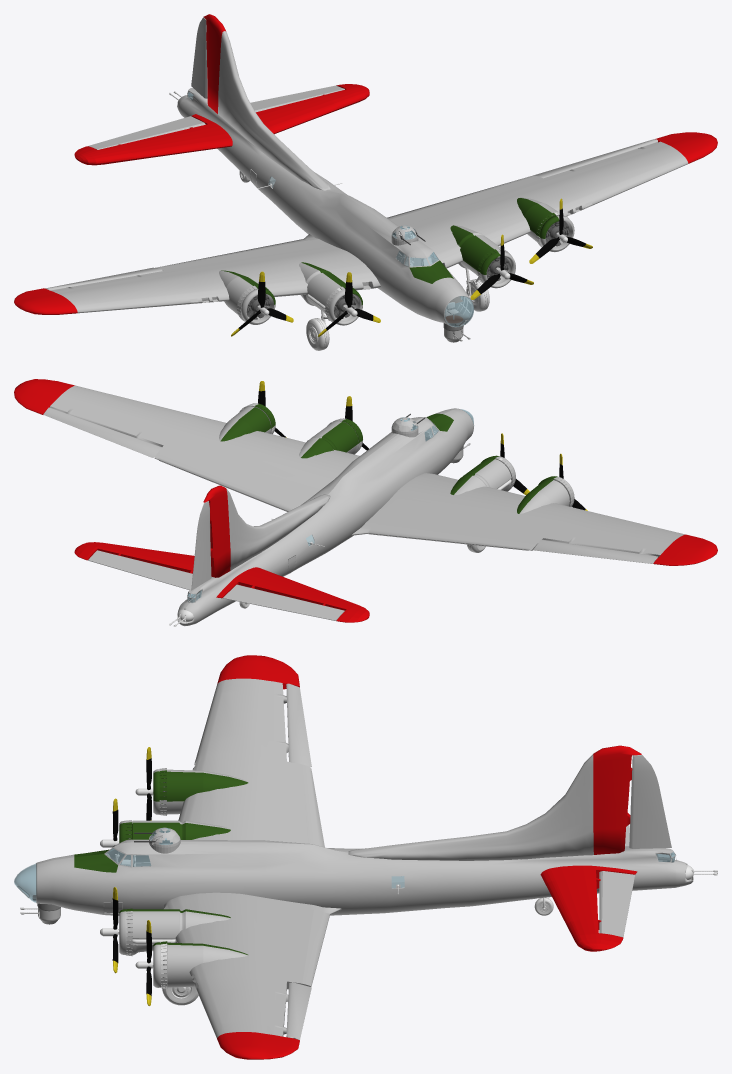
3 views of the same model, one above another, from view 1: azimuth 30°, elevation 25°; view 2: azimuth 150°, elevation 25°; view 3: azimuth 270°, elevation 25° (orthographic). The views are drawn at different scales.
Parts seen in each view (by area): view 1: Cylinder, Cylinder.033, Cylinder.036, Cube.014, Cube.004, Cube.001, Cylinder.051, Cylinder.042, Cylinder.052, Cylinder.299, Cube.003, Cube.422 (+4 smaller); view 2: Cylinder.033, Cylinder.036, Cylinder, Cube.014, Cube.004, Cube.003, Cube.001, Cube.002, Cylinder.051, Cube.005, Cylinder.042, Cube.025 (+3 smaller); view 3: Cylinder, Cylinder.036, Cylinder.033, Cube.014, Cube.001, Cube.422, Cylinder.051, Cylinder.052, Cylinder.299, Cube.002, Cylinder.042, Cube.025 (+1 smaller).
Boxes of the visible parts, box(x1,y1,x2,y2) form: Cylinder: box(177, 88, 473, 327); Cylinder.033: box(387, 132, 717, 268); Cylinder.036: box(14, 234, 380, 314); Cube.014: box(203, 14, 330, 190); Cube.004: box(74, 114, 232, 165); Cube.001: box(256, 84, 369, 134); Cylinder.051: box(450, 225, 515, 288); Cylinder.042: box(299, 262, 362, 325); Cylinder.052: box(517, 197, 574, 252); Cylinder.299: box(219, 270, 275, 324); Cube.003: box(88, 116, 205, 149); Cube.422: box(191, 17, 207, 98); Cylinder.033: box(14, 379, 359, 511); Cylinder.036: box(351, 473, 717, 565); Cylinder: box(177, 408, 473, 626); Cube.014: box(203, 485, 330, 577); Cube.004: box(216, 567, 369, 622); Cube.003: box(223, 584, 344, 620); Cube.001: box(74, 542, 194, 573); Cube.002: box(88, 550, 192, 589); Cylinder.051: box(299, 418, 362, 458); Cube.005: box(43, 407, 161, 457); Cylinder.042: box(450, 455, 515, 495); Cube.025: box(533, 539, 657, 563); Cylinder: box(36, 839, 693, 915); Cylinder.036: box(178, 655, 324, 847); Cylinder.033: box(163, 892, 341, 1059); Cube.014: box(348, 745, 641, 860); Cube.001: box(540, 865, 637, 951); Cube.422: box(629, 755, 671, 848); Cylinder.051: box(119, 909, 230, 955); Cylinder.052: box(153, 942, 248, 987); Cylinder.299: box(153, 769, 248, 814); Cube.002: box(599, 871, 635, 937); Cylinder.042: box(119, 820, 230, 842); Cube.025: box(286, 683, 311, 766).
Bounding box in the file's own units: 4177 × 1024 × 3083.
